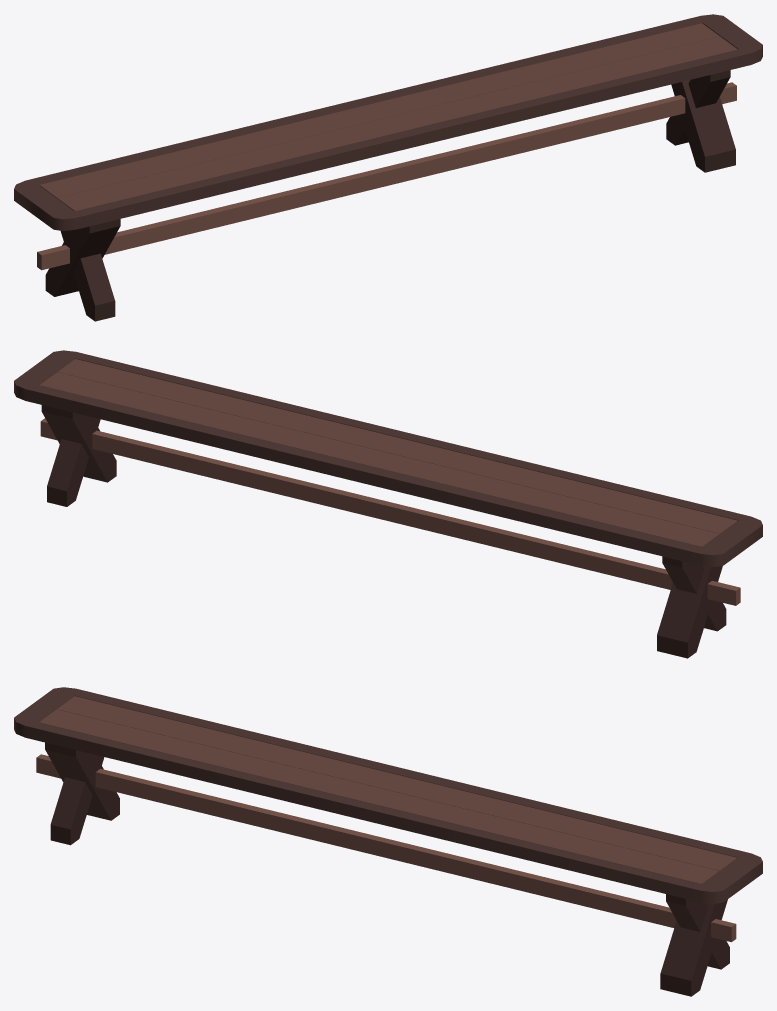
Rendered from Long bench.fbx.
3 renders of one model, top to bottom at view 1: azimuth 30°, elevation 25°; view 2: azimuth 150°, elevation 25°; view 3: azimuth 330°, elevation 25°, orthographic.
Visible parts, largest first — view 1: Cube.008; view 2: Cube.008; view 3: Cube.008.
Boxes of the visible parts, <box> form: Cube.008: <box>14,14,762,321</box>; Cube.008: <box>14,350,762,658</box>; Cube.008: <box>14,687,762,996</box>.
Bounding box in the file's own units: 5.31 × 0.797 × 0.6593.
